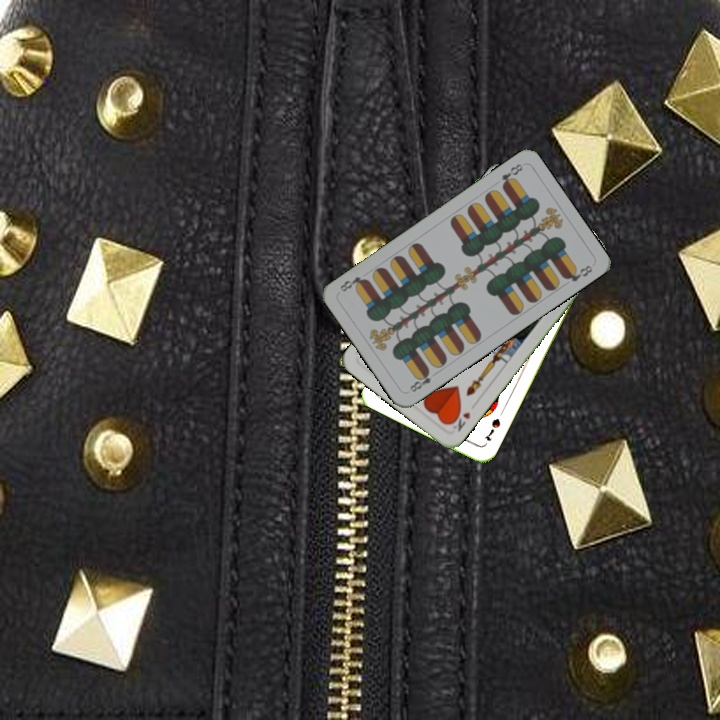E8: (405, 366, 440, 395), (497, 160, 525, 191)
HK: (446, 406, 473, 434)
S7: (481, 414, 503, 444)
